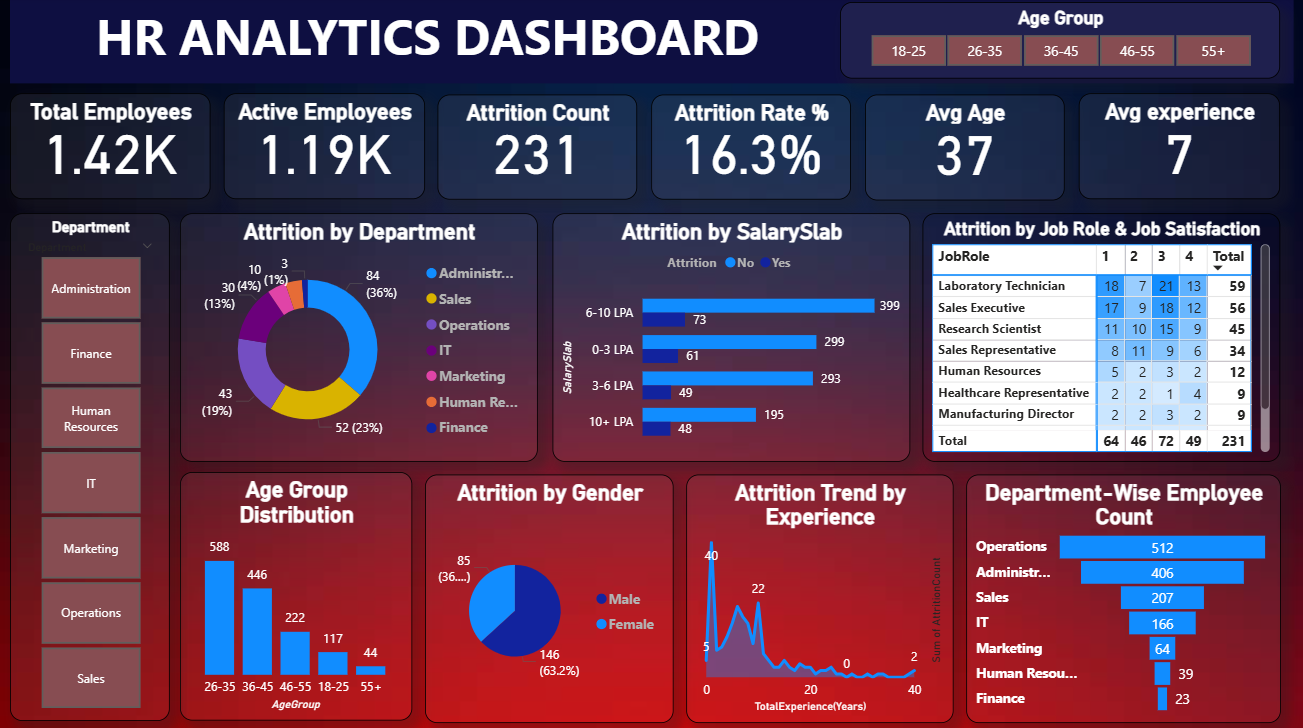

What the dashboard file says about the page in this screenshot:
{"tool":"powerbi","page":{"name":"Page 1","canvas":[1280,720],"ordinal":0},"visuals":[{"type":"textbox","box":[9.6,0,1259.7,85.1],"z":0},{"type":"card","title":"Total Employees","fields":{"Values":["CountNonNull(HR_Analytics-4 (1).EmpID)"]},"box":[10,95,197,104],"z":1000},{"type":"card","title":"Attrition Rate %","fields":{"Values":["HR_Analytics-4 (1).Attrition Rate %"]},"box":[639.5,96.1,196.2,102.9],"z":2000},{"type":"card","title":"Avg Age","fields":{"Values":["Avg(HR_Analytics-4 (1).Age)"]},"box":[849.4,96.1,196.2,104.3],"z":3000},{"type":"card","title":"Active Employees","fields":{"Values":["CountNonNull(HR_Analytics-4 (1).EmployeeCount)"]},"box":[219.6,94.7,197.6,104.3],"z":4000},{"type":"card","title":"Avg experience","fields":{"Values":["Avg(HR_Analytics-4 (1).YearsatCompany)"]},"box":[1059.4,94.7,197.6,104.3],"z":5000},{"type":"card","title":"Attrition Count","fields":{"Values":["Sum(HR_Analytics-4 (1).AttritionCount)"]},"box":[429.5,96.1,196.2,102.9],"z":6000},{"type":"donutChart","title":"Attrition by Department","fields":{"Category":["HR_Analytics-4 (1).Department"],"Y":["Sum(HR_Analytics-4 (1).AttritionCount)"]},"box":[177,212.7,351.3,244.3],"z":7000},{"type":"clusteredBarChart","title":"Attrition by SalarySlab","fields":{"Category":["HR_Analytics-4 (1).SalarySlab"],"Y":["CountNonNull(HR_Analytics-4 (1).EmpID)"],"Series":["HR_Analytics-4 (1).Attrition"]},"box":[542,212.7,351.3,244.3],"z":8000},{"type":"pivotTable","title":"Attrition by Job Role & Job Satisfaction","fields":{"Rows":["HR_Analytics-4 (1).JobRole"],"Values":["Sum(HR_Analytics-4 (1).AttritionCount)"],"Columns":["HR_Analytics-4 (1).JobSatisfaction"]},"box":[905.7,212.7,351.3,244.3],"z":9000},{"type":"clusteredColumnChart","title":"Age Group Distribution","fields":{"Category":["HR_Analytics-4 (1).AgeGroup"],"Y":["Sum(HR_Analytics-4 (1).EmployeeCount)"]},"box":[177,466.6,227.8,244.3],"z":10000},{"type":"pieChart","title":" Attrition by Gender","fields":{"Category":["HR_Analytics-4 (1).Gender"],"Y":["Sum(HR_Analytics-4 (1).AttritionCount)"]},"box":[417.2,469.3,244.3,244.3],"z":11000},{"type":"areaChart","title":"Attrition Trend by Experience","fields":{"Category":["HR_Analytics-4 (1).TotalExperience(Years)"],"Y2":["Sum(HR_Analytics-4 (1).AttritionCount)"]},"box":[673.8,469.3,262.1,244.3],"z":12000},{"type":"funnel","title":" Department-Wise Employee Count","fields":{"Category":["HR_Analytics-4 (1).Department"],"Y":["CountNonNull(HR_Analytics-4 (1).EmpID)"]},"box":[948.2,469.3,308.7,244.3],"z":13000},{"type":"slicer","title":"Department","fields":{"Values":["HR_Analytics-4 (1).Department"]},"box":[9.8,212.3,157.1,498.2],"z":14000},{"type":"slicer","title":"Age Group","fields":{"Values":["HR_Analytics-4 (1).AgeGroup"]},"box":[824.5,4.9,431.9,74.8],"z":15000}]}

Visuals, with their boxes in screenshot pixels (x1, y1, x2, y2), scaled from the page's 1280x720 canvas onto the 1303x728 screenshot:
textbox: [10, 0, 1292, 86]
"Total Employees" card: [10, 96, 211, 201]
"Attrition Rate %" card: [651, 97, 851, 201]
"Avg Age" card: [865, 97, 1064, 203]
"Active Employees" card: [224, 96, 425, 201]
"Avg experience" card: [1078, 96, 1280, 201]
"Attrition Count" card: [437, 97, 637, 201]
"Attrition by Department" donutChart: [180, 215, 538, 462]
"Attrition by SalarySlab" clusteredBarChart: [552, 215, 909, 462]
"Attrition by Job Role & Job Satisfaction" pivotTable: [922, 215, 1280, 462]
"Age Group Distribution" clusteredColumnChart: [180, 472, 412, 719]
" Attrition by Gender" pieChart: [425, 475, 673, 722]
"Attrition Trend by Experience" areaChart: [686, 475, 953, 722]
" Department-Wise Employee Count" funnel: [965, 475, 1279, 722]
"Department" slicer: [10, 215, 170, 718]
"Age Group" slicer: [839, 5, 1279, 81]
